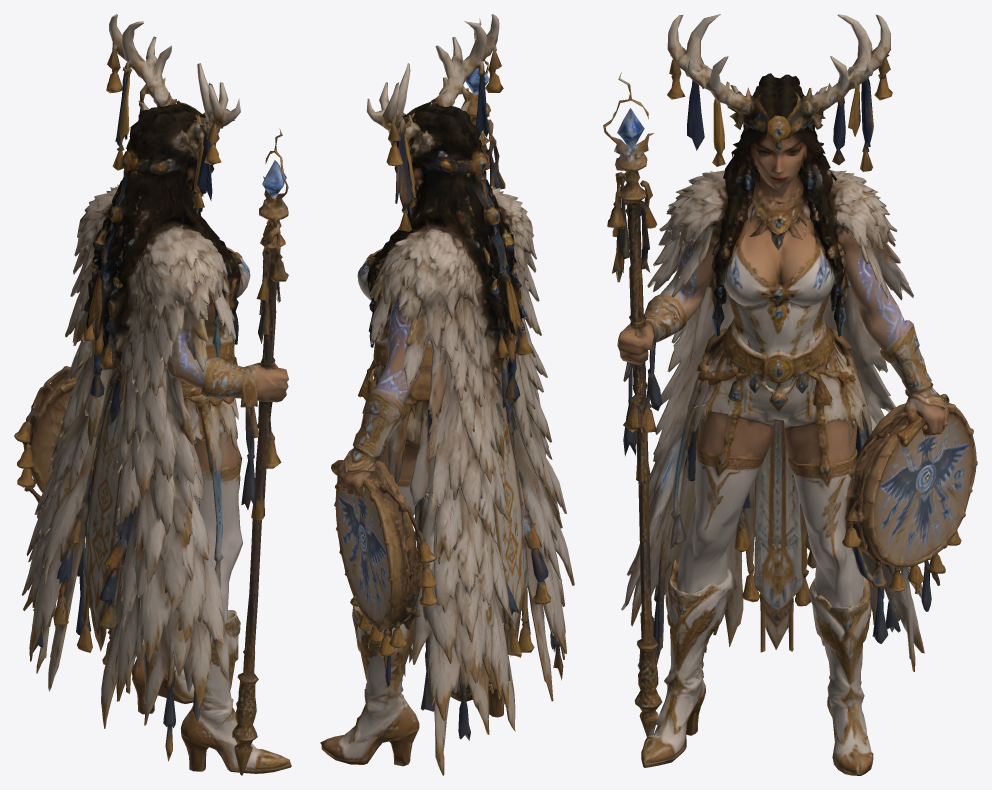
The model's file is drum_T5-tripo.glb.
3 views of the same model, side by side, from view 1: azimuth 30°, elevation 25°; view 2: azimuth 150°, elevation 25°; view 3: azimuth 270°, elevation 25° (orthographic). The views are drawn at different scales.
Visible parts, largest first — view 1: tripo_node_6f1b066f-0a8d-4d1b-8578-5faa61c45f2a; view 2: tripo_node_6f1b066f-0a8d-4d1b-8578-5faa61c45f2a; view 3: tripo_node_6f1b066f-0a8d-4d1b-8578-5faa61c45f2a.
Boxes of the visible parts, x1,y1,x2,y2 form: tripo_node_6f1b066f-0a8d-4d1b-8578-5faa61c45f2a: [14, 14, 291, 775]; tripo_node_6f1b066f-0a8d-4d1b-8578-5faa61c45f2a: [320, 14, 574, 775]; tripo_node_6f1b066f-0a8d-4d1b-8578-5faa61c45f2a: [603, 14, 977, 775].
Size of the model in its own units: 0.2779 by 1 by 0.4668.
Materials: 1 (1 with a texture image).
